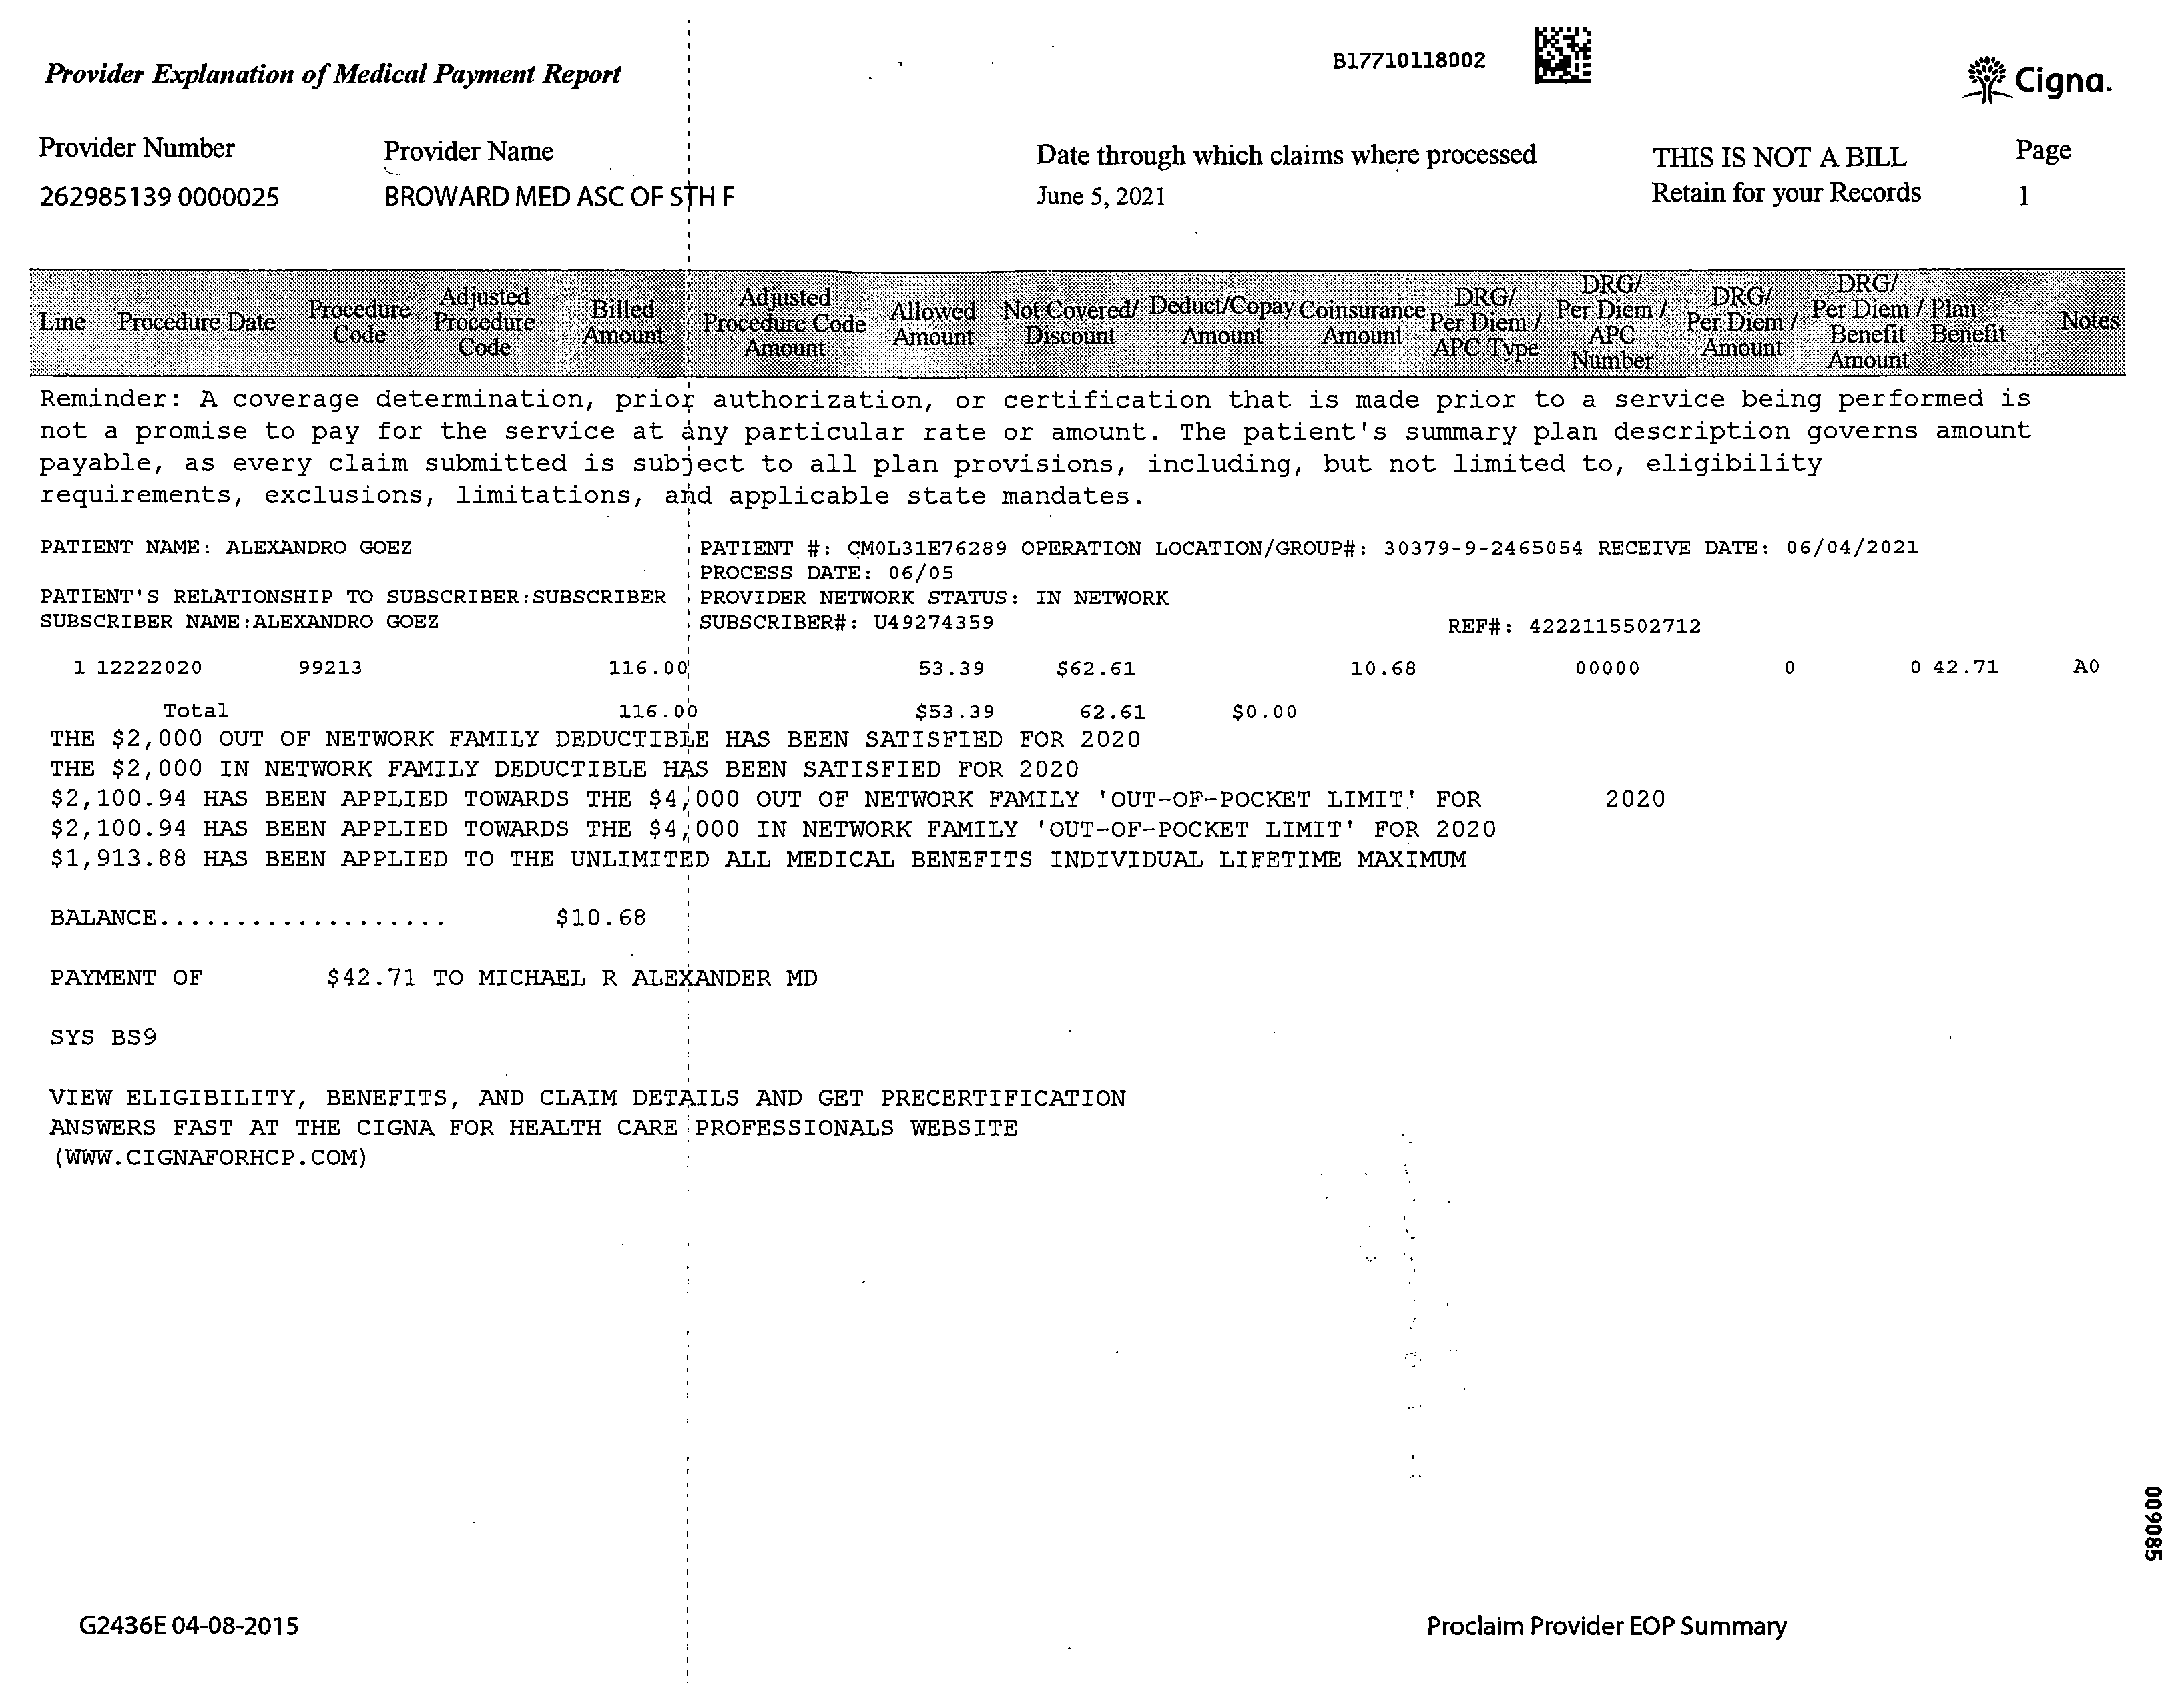data: (21, 119, 766, 237)
